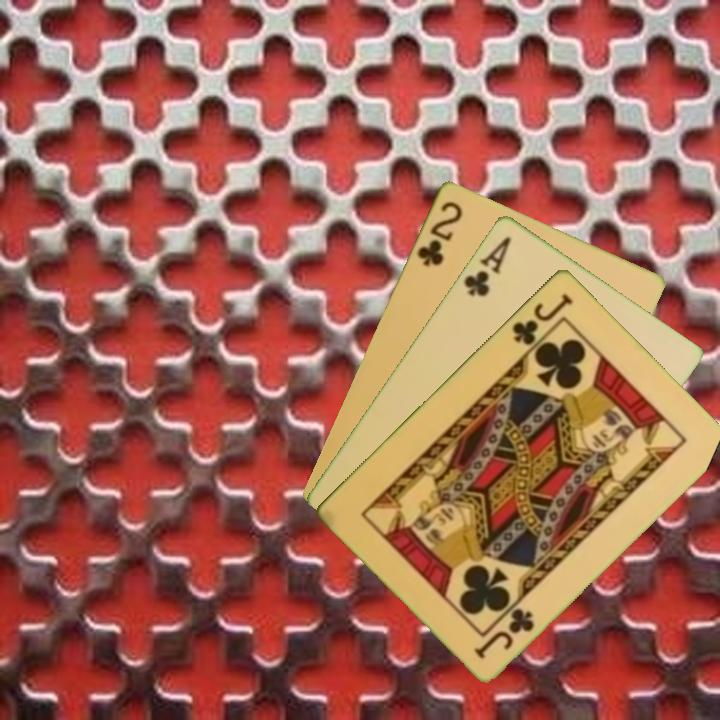2c: (413, 197, 465, 269)
Ac: (460, 231, 514, 299)
Jc: (508, 289, 576, 348), (470, 603, 538, 661)
